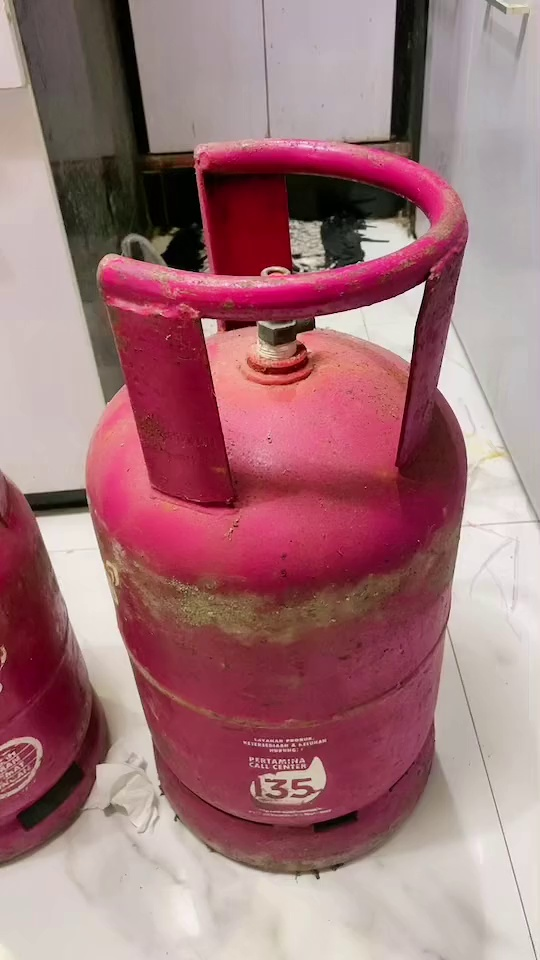bright_gas: (84, 137, 471, 878), (1, 469, 112, 873)
